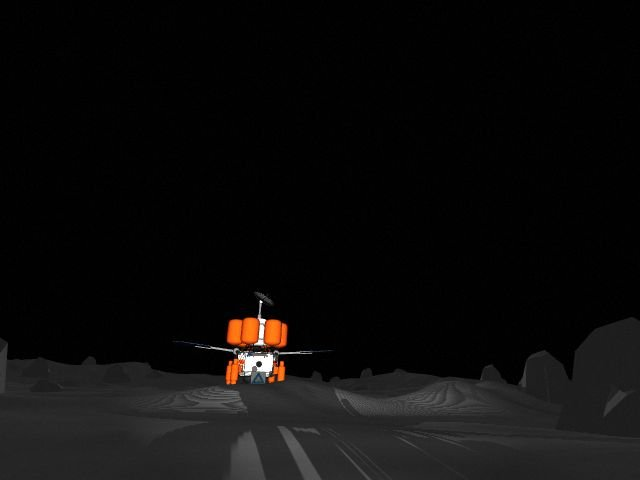homebase: (170, 289, 339, 394)
